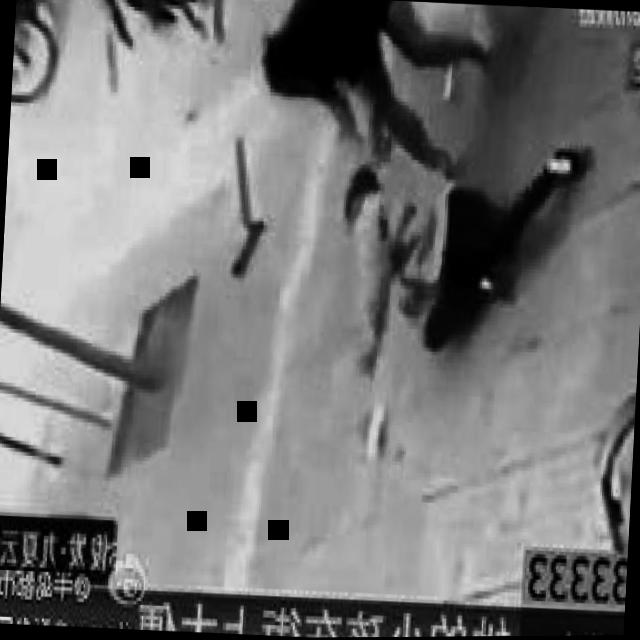Fall-Detected: (330, 91, 602, 383)
